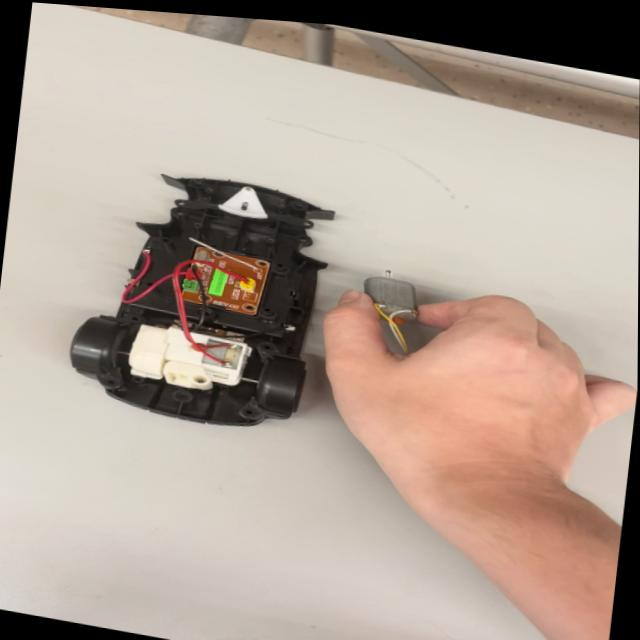Chassis: (91, 146, 339, 446)
motor: (344, 250, 427, 339)
